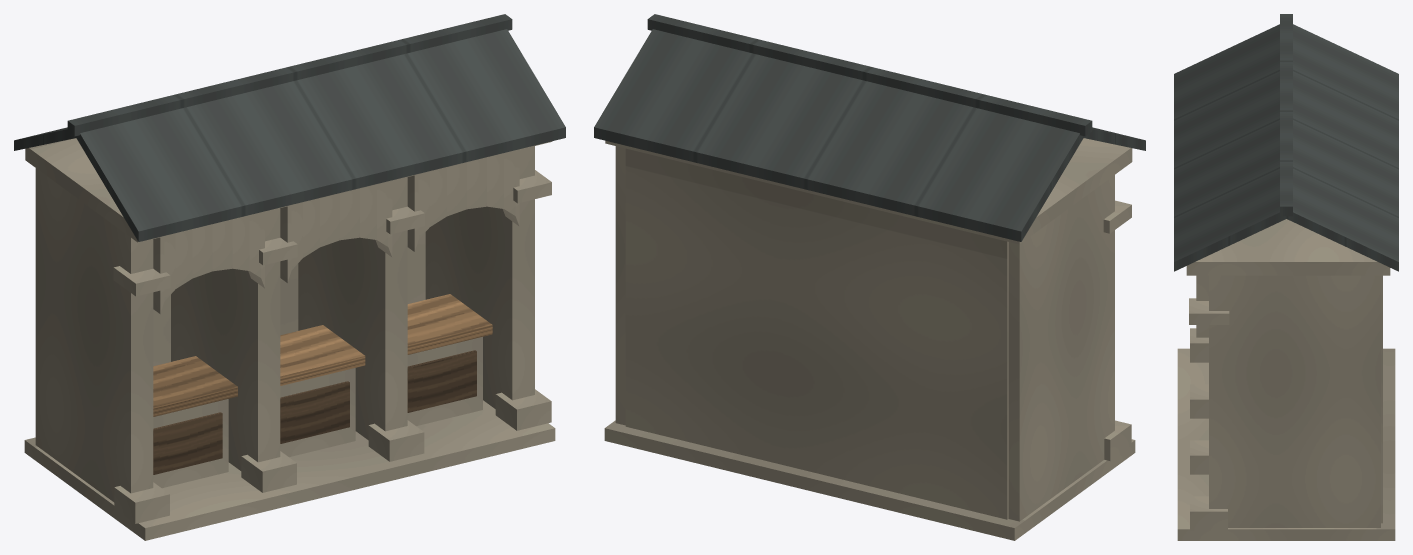
The model's file is ilorin.glb.
The picture shows the model from 3 angles, left to right: view 1: azimuth 30°, elevation 25°; view 2: azimuth 150°, elevation 25°; view 3: azimuth 270°, elevation 25°; orthographic projection. The views are drawn at different scales.
Parts seen in each view (by area): view 1: ilorin; view 2: ilorin; view 3: ilorin.
Part boxes in pixels (bbox=[...]): ilorin: bbox=[14, 14, 565, 540]; ilorin: bbox=[594, 14, 1145, 540]; ilorin: bbox=[1174, 14, 1398, 540].
Size of the model in its own units: 2.79 by 2.3 by 1.38.
1 material, 1 textured.
